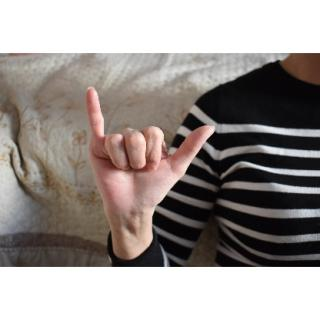YA: (84, 83, 218, 236)
